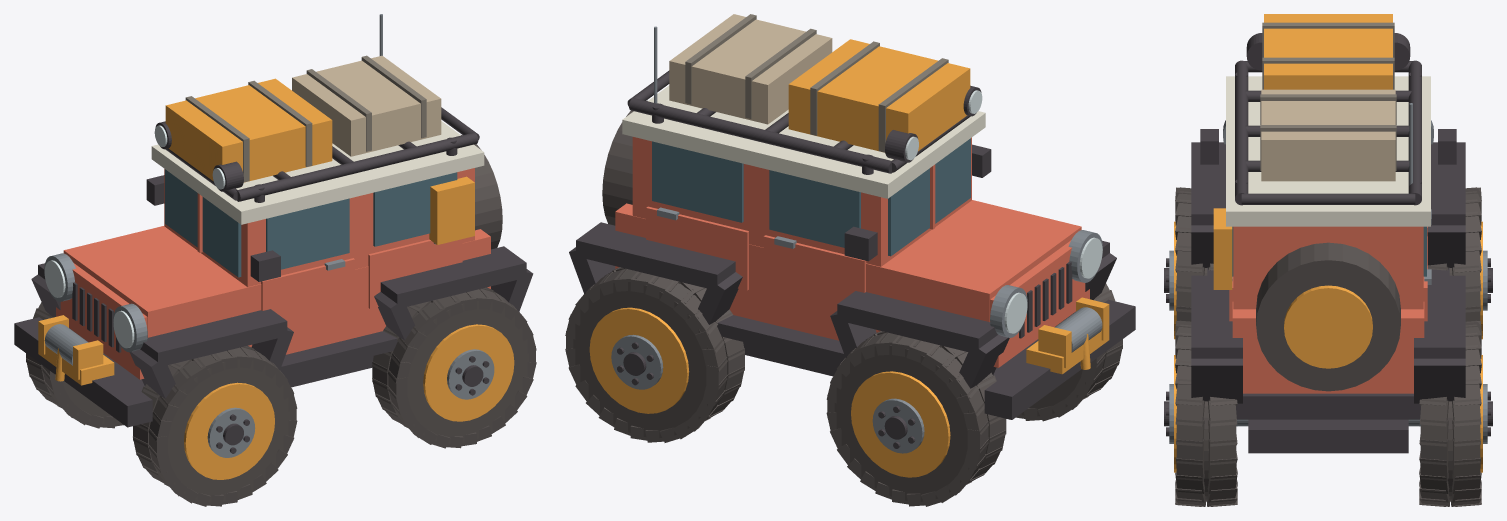
Rendered from Expedition_Rover.glb.
3 views of the same model, side by side, from view 1: azimuth 30°, elevation 25°; view 2: azimuth 150°, elevation 25°; view 3: azimuth 270°, elevation 25° (orthographic). The views are drawn at different scales.
Visible parts, largest first — view 1: Hood, Orange roof duffel, Ivory roof, Rear cargo case, Oversize tire, Oversize tire.002, Orange wheel rim.002, Orange wheel rim, Door panel, Fender top, Fender top.001, Side window (+31 smaller); view 2: Hood, Orange roof duffel, Ivory roof, Rear cargo case, Oversize tire.001, Oversize tire.003, Cabin, Orange wheel rim.001, Orange wheel rim.003, Side window.003, Door panel.002, Fender top.003 (+32 smaller); view 3: Rear spare tire, Rear cargo case, Ivory roof, Orange roof duffel, Cabin, Spare rim, Ladder chassis, Lower body, Rear bumper, Fender top.003, Fender top.001, Fender top.002 (+45 smaller).
Boxes of the visible parts, x1=… form: Hood: x1=63, y1=226, x2=261, y2=337; Orange roof duffel: x1=165, y1=78, x2=332, y2=182; Ivory roof: x1=151, y1=121, x2=484, y2=224; Rear cargo case: x1=292, y1=55, x2=441, y2=156; Oversize tire: x1=150, y1=359, x2=289, y2=502; Oversize tire.002: x1=389, y1=301, x2=528, y2=443; Orange wheel rim.002: x1=423, y1=324, x2=514, y2=421; Orange wheel rim: x1=184, y1=382, x2=274, y2=479; Door panel: x1=261, y1=258, x2=354, y2=328; Fender top: x1=140, y1=309, x2=287, y2=367; Fender top.001: x1=380, y1=246, x2=526, y2=308; Side window: x1=266, y1=198, x2=349, y2=269; Hood: x1=866, y1=200, x2=1081, y2=321; Orange roof duffel: x1=788, y1=39, x2=970, y2=152; Ivory roof: x1=622, y1=85, x2=985, y2=198; Rear cargo case: x1=669, y1=14, x2=832, y2=124; Oversize tire.001: x1=834, y1=345, x2=986, y2=501; Oversize tire.003: x1=573, y1=282, x2=725, y2=438; Cabin: x1=632, y1=137, x2=971, y2=266; Orange wheel rim.001: x1=851, y1=371, x2=950, y2=477; Orange wheel rim.003: x1=589, y1=307, x2=689, y2=413; Side window.003: x1=652, y1=141, x2=743, y2=222; Door panel.002: x1=763, y1=235, x2=866, y2=311; Fender top.003: x1=576, y1=222, x2=735, y2=290; Rear spare tire: x1=1256, y1=242, x2=1400, y2=391; Rear cargo case: x1=1261, y1=89, x2=1395, y2=181; Ivory roof: x1=1226, y1=76, x2=1430, y2=226; Orange roof duffel: x1=1264, y1=14, x2=1392, y2=89; Cabin: x1=1233, y1=226, x2=1423, y2=309; Spare rim: x1=1284, y1=285, x2=1372, y2=368; Ladder chassis: x1=1248, y1=419, x2=1408, y2=453; Lower body: x1=1232, y1=302, x2=1424, y2=393; Rear bumper: x1=1236, y1=393, x2=1420, y2=419; Fender top.003: x1=1414, y1=275, x2=1465, y2=358; Fender top.001: x1=1191, y1=275, x2=1242, y2=358; Fender top.002: x1=1431, y1=142, x2=1465, y2=225.
Bounding box in the file's own units: 5.35 × 4.29 × 3.18.
